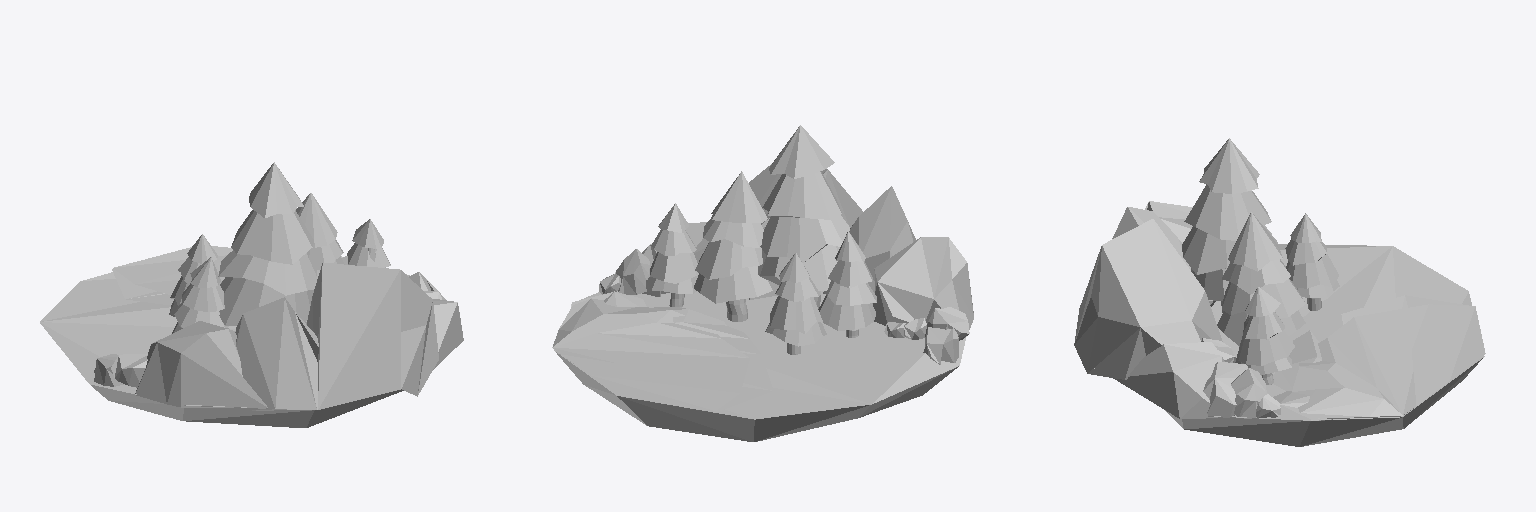
3 views of the same model, side by side, from view 1: azimuth 30°, elevation 25°; view 2: azimuth 150°, elevation 25°; view 3: azimuth 270°, elevation 25° (orthographic).
Parts seen in each view (by area): view 1: group[number redacted], group[number redacted], group[number redacted], group[number redacted], group[number redacted], group[number redacted], group[number redacted], group[number redacted], group[number redacted], group[number redacted], group[number redacted], group[number redacted] (+3 smaller); view 2: group[number redacted], group[number redacted], group[number redacted], group[number redacted], group[number redacted], group[number redacted], group[number redacted], group[number redacted], group[number redacted], group[number redacted], group[number redacted], group[number redacted] (+4 smaller); view 3: group[number redacted], group[number redacted], group[number redacted], group[number redacted], group[number redacted], group[number redacted], group[number redacted], group[number redacted], group[number redacted], group[number redacted], group[number redacted], group[number redacted] (+3 smaller).
Boxes of the visible parts, box(x1,y1,x2,y2) form: group[number redacted]: box(307, 263, 438, 409); group[number redacted]: box(40, 272, 403, 427); group[number redacted]: box(218, 162, 317, 325); group[number redacted]: box(135, 321, 267, 408); group[number redacted]: box(235, 297, 318, 410); group[number redacted]: box(172, 257, 228, 333); group[number redacted]: box(113, 246, 409, 294); group[number redacted]: box(296, 193, 344, 324); group[number redacted]: box(433, 299, 463, 369); group[number redacted]: box(169, 234, 224, 316); group[number redacted]: box(111, 353, 147, 387); group[number redacted]: box(112, 269, 173, 305); group[number redacted]: box(554, 291, 966, 441); group[number redacted]: box(552, 298, 749, 410); group[number redacted]: box(758, 125, 849, 308); group[number redacted]: box(694, 171, 773, 321); group[number redacted]: box(873, 237, 973, 337); group[number redacted]: box(818, 231, 876, 337); group[number redacted]: box(765, 253, 826, 354); group[number redacted]: box(571, 291, 773, 411); group[number redacted]: box(849, 186, 915, 303); group[number redacted]: box(749, 164, 862, 299); group[number redacted]: box(650, 252, 698, 283); group[number redacted]: box(615, 249, 649, 294); group[number redacted]: box(1292, 304, 1485, 418); group[number redacted]: box(1074, 219, 1222, 379); group[number redacted]: box(1094, 244, 1484, 446); group[number redacted]: box(1182, 138, 1285, 312); group[number redacted]: box(1217, 212, 1305, 346); group[number redacted]: box(1113, 342, 1224, 418); group[number redacted]: box(1273, 295, 1468, 420); group[number redacted]: box(1285, 213, 1339, 310); group[number redacted]: box(1203, 362, 1247, 417); group[number redacted]: box(1238, 316, 1294, 365); group[number redacted]: box(1231, 368, 1267, 418); group[number redacted]: box(1112, 207, 1215, 306).
Size of the model in its own units: 0.2774 by 0.1693 by 0.2758.